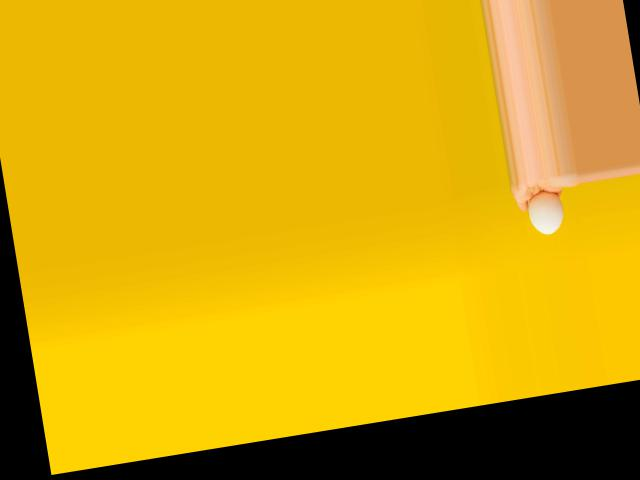egg: (525, 188, 565, 236)
